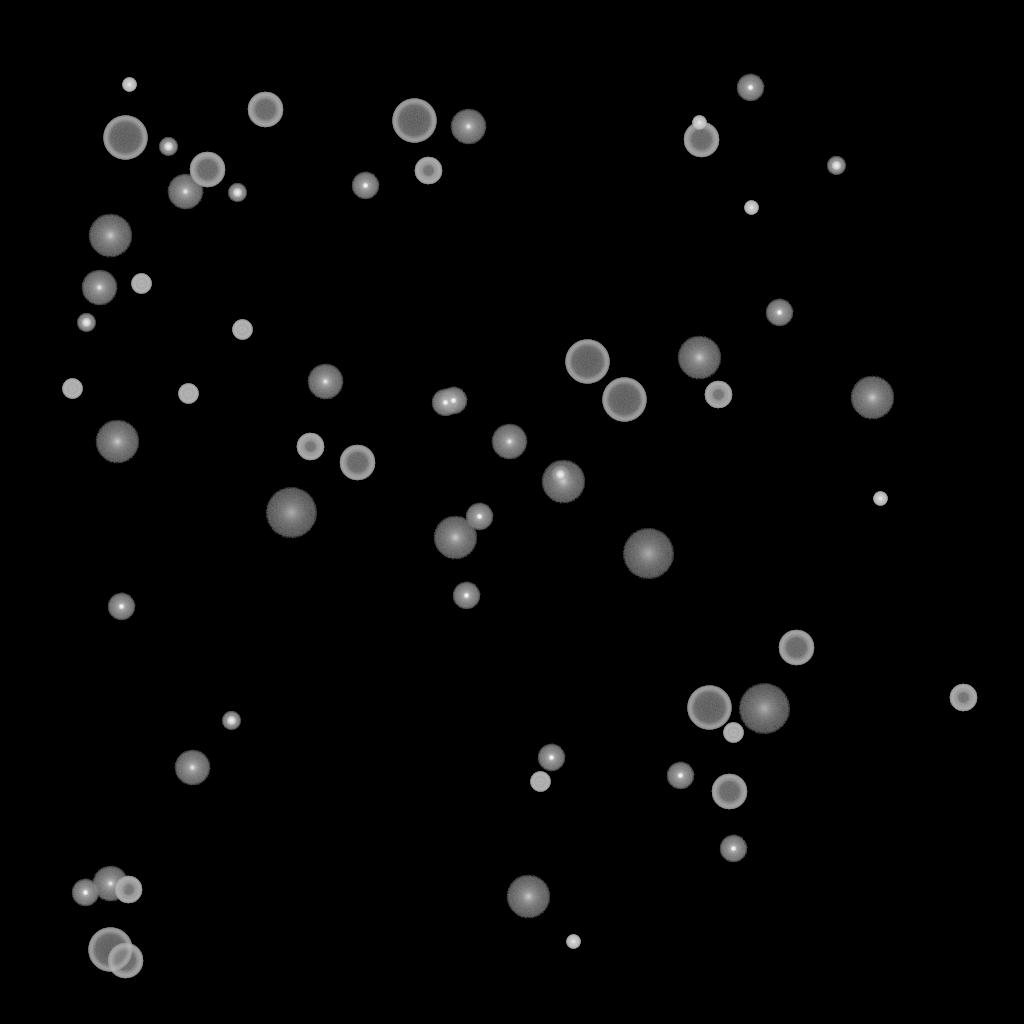depth:-10: (71, 879, 99, 907), (439, 387, 467, 415), (765, 299, 793, 327), (666, 762, 694, 790), (107, 593, 135, 621), (431, 389, 459, 417), (736, 74, 764, 102), (465, 503, 493, 531), (452, 582, 480, 610), (719, 835, 747, 863), (537, 744, 565, 772), (351, 172, 379, 200)
depth:-20: (827, 157, 845, 175), (222, 712, 240, 730), (551, 466, 569, 484), (159, 138, 177, 156), (77, 314, 95, 332), (228, 184, 246, 202)
depth:-30: (873, 492, 887, 506), (122, 78, 136, 92), (566, 935, 580, 949), (692, 116, 706, 130), (744, 201, 758, 215)
depth:-40: (530, 772, 550, 792), (723, 723, 743, 743), (62, 379, 82, 399), (178, 384, 198, 404), (131, 274, 151, 294), (232, 320, 252, 340)
depth:-50: (414, 157, 442, 185), (296, 433, 324, 461), (704, 381, 732, 409), (114, 876, 142, 904), (949, 684, 977, 712)
depth:-60: (778, 630, 814, 666), (339, 445, 375, 481), (247, 92, 283, 128), (107, 943, 143, 979), (189, 152, 225, 188), (683, 122, 719, 158), (711, 774, 747, 810)
depth:-70: (392, 99, 436, 143), (103, 116, 147, 160), (602, 378, 646, 422), (687, 686, 731, 730), (88, 928, 132, 972), (565, 340, 609, 384)
depth:0: (81, 270, 117, 306), (450, 109, 486, 145), (92, 866, 128, 902), (167, 174, 203, 210), (307, 364, 343, 400), (491, 424, 527, 460), (174, 750, 210, 786)
depth:10: (88, 214, 132, 258), (506, 875, 550, 919), (850, 376, 894, 420), (95, 420, 139, 464), (433, 516, 477, 560), (677, 336, 721, 380), (541, 460, 585, 504)
depth:20: (265, 488, 317, 538), (738, 684, 790, 734), (622, 529, 674, 579)
